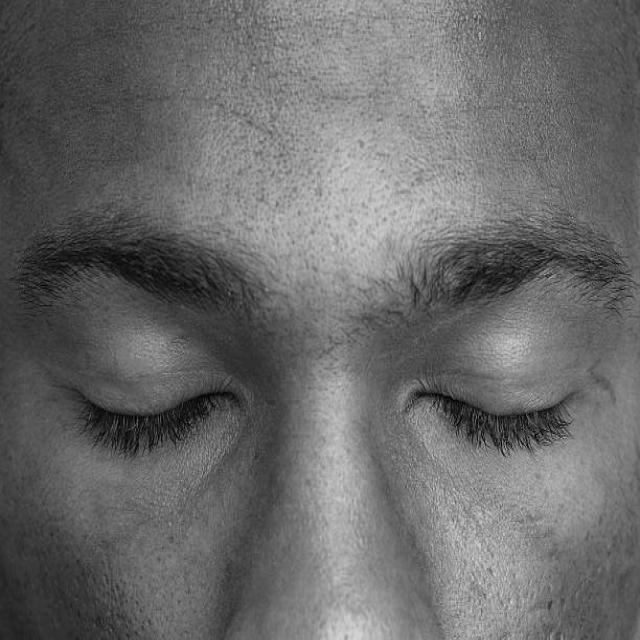real: (7, 174, 640, 482)
